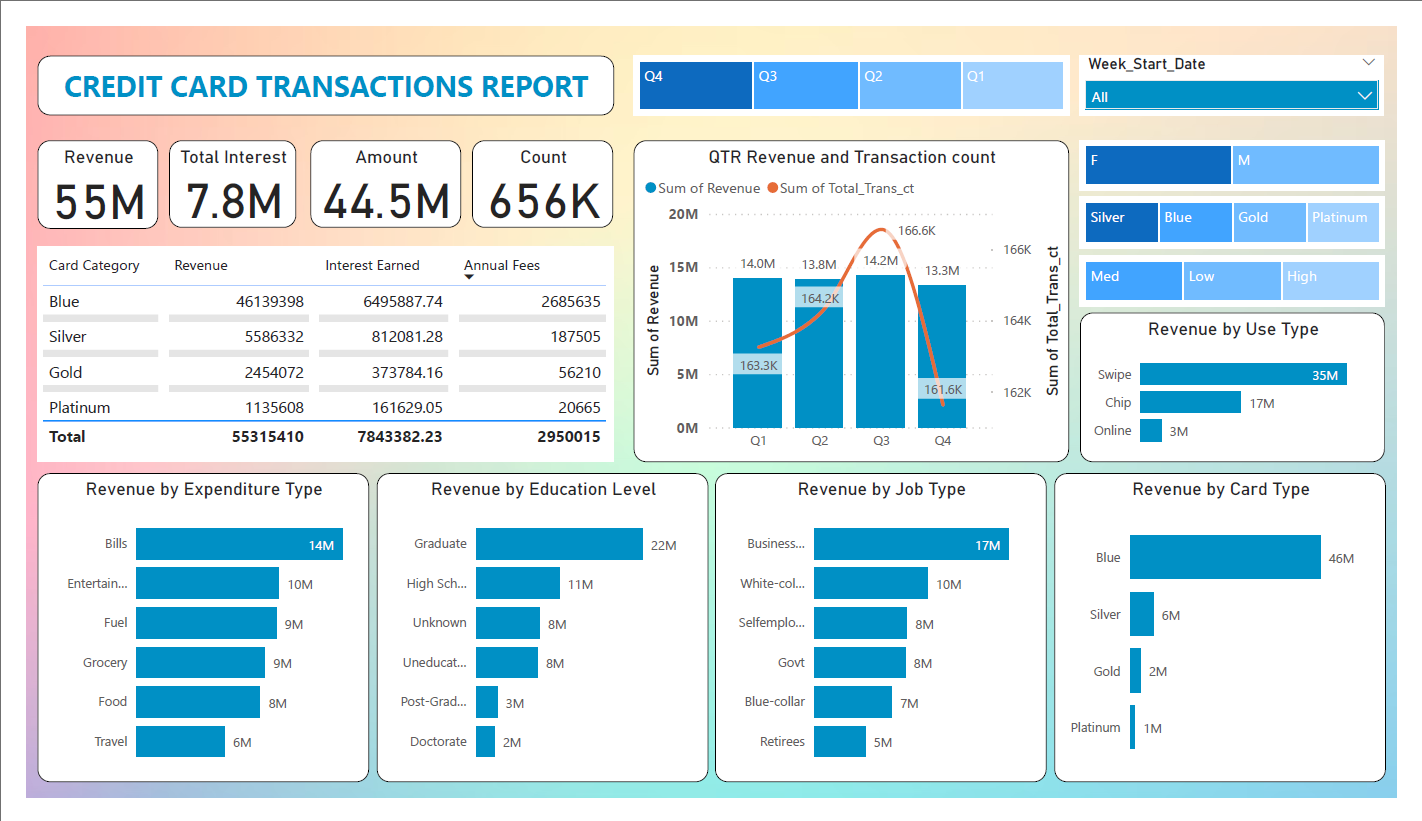

What the dashboard file says about the page in this screenshot:
{"tool":"powerbi","page":{"name":"Final Weekly Report","canvas":[1280,720],"ordinal":0},"visuals":[{"type":"textbox","box":[10,27.1,538.6,55.7],"z":0},{"type":"lineStackedColumnComboChart","title":"QTR Revenue and Transaction count","fields":{"Category":["credit_card.Qtr"],"Y":["Sum(credit_card.Revenue)"],"Y2":["Sum(credit_card.Total_Trans_Vol)"]},"box":[566.7,106.2,407.4,301.2],"z":1000},{"type":"barChart","title":"Revenue by Expenditure Type","fields":{"Y":["Sum(credit_card.Revenue)"],"Category":["credit_card.Exp Type"]},"box":[10,417.1,310,288.6],"z":2000},{"type":"barChart","title":"Revenue by Education Level","fields":{"Y":["Sum(credit_card.Revenue)"],"Category":["customer.Education_Level"]},"box":[327.1,417.1,310,288.6],"z":3000},{"type":"barChart","title":"Revenue by Job Type","fields":{"Y":["Sum(credit_card.Revenue)"],"Category":["customer.Customer_Job"]},"box":[642.9,417.1,310,288.6],"z":4000},{"type":"barChart","title":"Revenue by Card Type","fields":{"Y":["Sum(credit_card.Revenue)"],"Category":["credit_card.Card_Category"]},"box":[960,417.1,310,288.6],"z":5000},{"type":"barChart","title":"Revenue by Use Type","fields":{"Y":["Sum(credit_card.Revenue)"],"Category":["credit_card.Use Chip"]},"box":[984.3,267.1,284.3,140],"z":6000},{"type":"tableEx","fields":{"Values":["credit_card.Card_Category","Sum(credit_card.Revenue)","Sum(credit_card.Interest_Earned)","Sum(credit_card.Annual_Fees)"]},"box":[9.9,204.9,538.3,201.2],"z":7000},{"type":"card","title":"Revenue","fields":{"Values":["Sum(credit_card.Revenue)"]},"box":[9.9,106.2,113.6,82.7],"z":8000},{"type":"card","title":"Total Interest","fields":{"Values":["Sum(credit_card.Interest_Earned)"]},"box":[133.3,106.2,118.5,81.5],"z":9000},{"type":"card","title":"Amount","fields":{"Values":["Sum(credit_card.Total_Trans_Amt)"]},"box":[265.4,106.2,140.7,81.5],"z":10000},{"type":"card","title":"Count","fields":{"Values":["Sum(credit_card.Total_Trans_ct)"]},"box":[416,106.2,132.1,81.5],"z":11000},{"type":"slicer","fields":{"Values":["credit_card.Week_Start_Date"]},"box":[984,27.2,284,55.6],"z":12000},{"type":"treemap","fields":{"Group":["credit_card.Qtr"],"Values":["Avg(credit_card.Client_Num)"]},"box":[566.7,27.2,407.4,55.6],"z":13000},{"type":"treemap","fields":{"Group":["customer.Gender"],"Values":["Avg(credit_card.Client_Num)"]},"box":[984.3,105.7,284.3,47.1],"z":14000},{"type":"treemap","fields":{"Group":["credit_card.Card_Category"],"Values":["Avg(credit_card.Client_Num)"]},"box":[984,159.3,285.2,48.1],"z":15000},{"type":"treemap","fields":{"Group":["customer.Income_group"],"Values":["Avg(credit_card.Client_Num)"]},"box":[984.3,214.3,284.3,47.1],"z":16000}]}

Visuals, with their boxes in screenshot pixels (x1, y1, x2, y2), scaled from the page's 1280x720 canvas onto the 1422x821 screenshot:
textbox: region(11, 31, 609, 94)
"QTR Revenue and Transaction count" lineStackedColumnComboChart: region(630, 121, 1082, 465)
"Revenue by Expenditure Type" barChart: region(11, 476, 356, 805)
"Revenue by Education Level" barChart: region(363, 476, 708, 805)
"Revenue by Job Type" barChart: region(714, 476, 1059, 805)
"Revenue by Card Type" barChart: region(1066, 476, 1411, 805)
"Revenue by Use Type" barChart: region(1093, 305, 1409, 464)
tableEx - credit_card.Card_Category x Sum(credit_card.Revenue): region(11, 234, 609, 463)
"Revenue" card: region(11, 121, 137, 215)
"Total Interest" card: region(148, 121, 280, 214)
"Amount" card: region(295, 121, 451, 214)
"Count" card: region(462, 121, 609, 214)
slicer - credit_card.Week_Start_Date: region(1093, 31, 1409, 94)
treemap - credit_card.Qtr x Avg(credit_card.Client_Num): region(630, 31, 1082, 94)
treemap - customer.Gender x Avg(credit_card.Client_Num): region(1093, 121, 1409, 174)
treemap - credit_card.Card_Category x Avg(credit_card.Client_Num): region(1093, 182, 1410, 236)
treemap - customer.Income_group x Avg(credit_card.Client_Num): region(1093, 244, 1409, 298)
